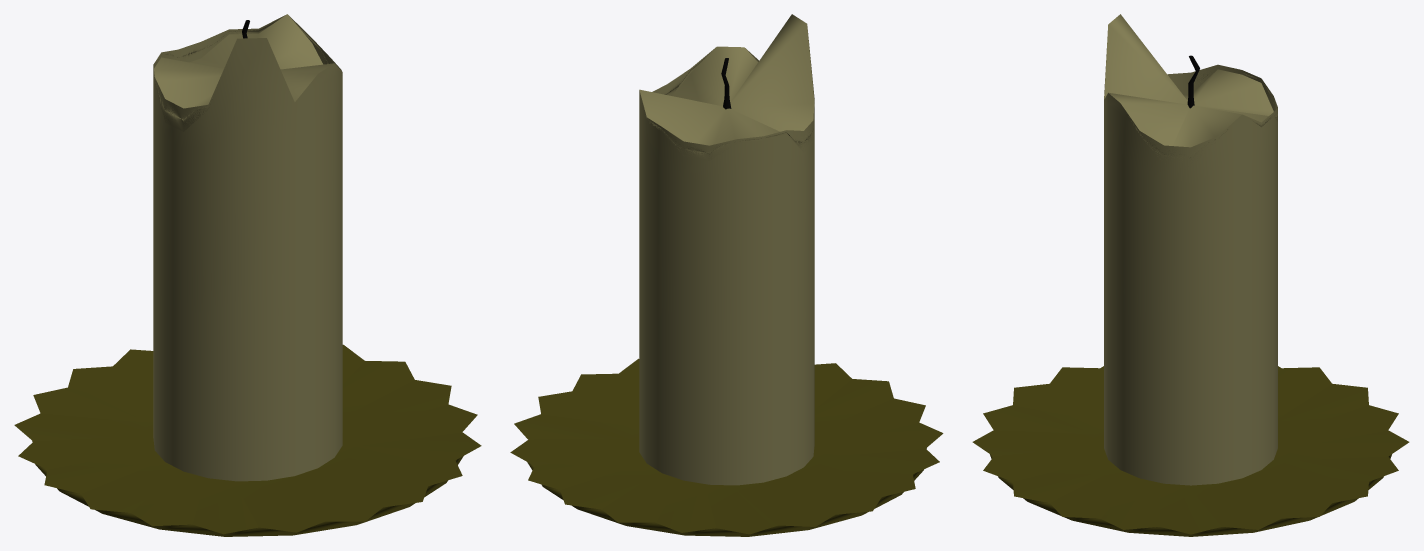
File: candle.fbx
The picture shows the model from 3 angles, left to right: view 1: azimuth 30°, elevation 25°; view 2: azimuth 150°, elevation 25°; view 3: azimuth 270°, elevation 25°; orthographic projection. The views are drawn at different scales.
Parts seen in each view (by area): view 1: pCylinder1, pCylinder3; view 2: pCylinder1, pCylinder3; view 3: pCylinder1, pCylinder3.
Boxes of the visible parts, left/top/right/bottom form: pCylinder1: left=153, top=14, right=342, bottom=481; pCylinder3: left=14, top=344, right=481, bottom=536; pCylinder1: left=639, top=14, right=814, bottom=485; pCylinder3: left=510, top=358, right=943, bottom=536; pCylinder1: left=1104, top=14, right=1277, bottom=485; pCylinder3: left=972, top=366, right=1409, bottom=536.
Bounding box in the file's own units: 2.16 × 2.31 × 2.16.
